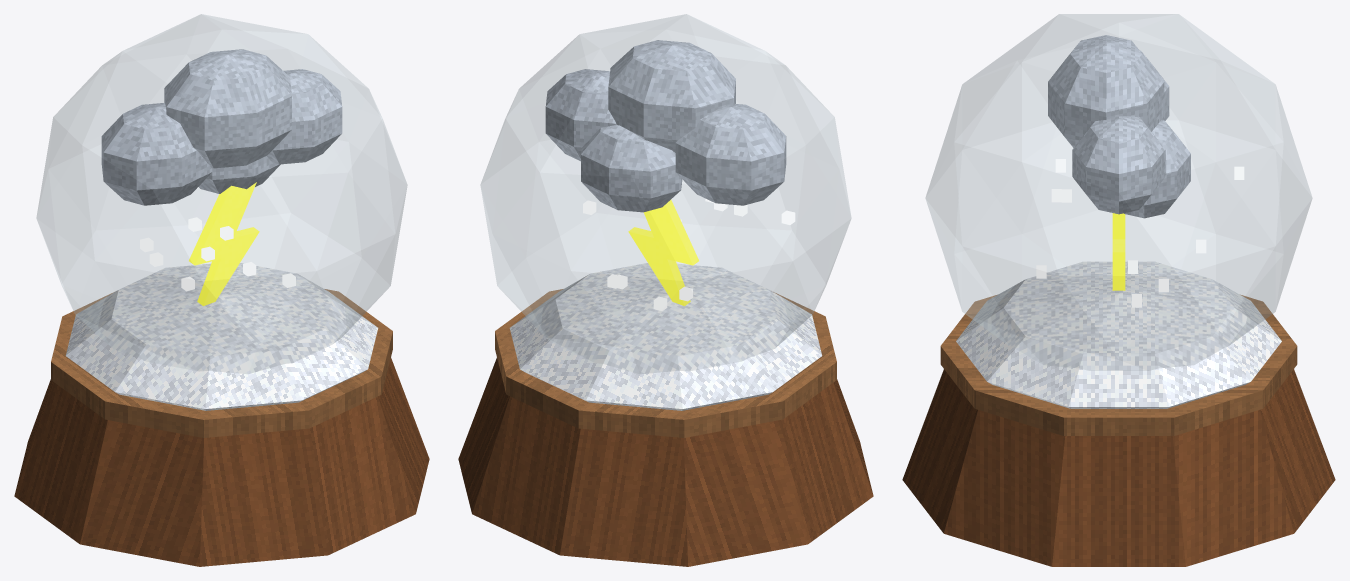
The model's file is 07-storm-globe.glb.
3 renders of one model, left to right at view 1: azimuth 30°, elevation 25°; view 2: azimuth 150°, elevation 25°; view 3: azimuth 270°, elevation 25°, orthographic. The views are drawn at different scales.
Visible parts, largest first — view 1: Globe, Base.001, Snow, Base lip, Cloud 1, Cloud 0, Cloud 2, Lightning, Cloud 3; view 2: Globe, Base.001, Snow, Base lip, Cloud 1, Cloud 0, Cloud 3, Cloud 2, Lightning; view 3: Globe, Base.001, Snow, Base lip, Cloud 1, Cloud 2, Cloud 3, Lightning.
Boxes of the visible parts, left/top/right/bottom form: Globe: left=36, top=14, right=407, bottom=373; Base.001: left=14, top=358, right=429, bottom=566; Snow: left=65, top=263, right=378, bottom=410; Base lip: left=51, top=289, right=392, bottom=437; Cloud 1: left=164, top=49, right=291, bottom=168; Cloud 0: left=101, top=103, right=212, bottom=205; Cloud 2: left=267, top=69, right=342, bottom=164; Lightning: left=189, top=182, right=259, bottom=306; Cloud 3: left=198, top=156, right=280, bottom=193; Globe: left=480, top=14, right=851, bottom=373; Base.001: left=458, top=358, right=873, bottom=566; Snow: left=509, top=263, right=822, bottom=410; Base lip: left=495, top=289, right=836, bottom=437; Cloud 1: left=608, top=40, right=735, bottom=152; Cloud 0: left=675, top=104, right=786, bottom=205; Cloud 3: left=581, top=124, right=682, bottom=212; Cloud 2: left=545, top=69, right=616, bottom=161; Lightning: left=628, top=199, right=698, bottom=306; Globe: left=925, top=14, right=1312, bottom=370; Base.001: left=902, top=369, right=1335, bottom=566; Snow: left=956, top=261, right=1281, bottom=408; Base lip: left=940, top=295, right=1297, bottom=435; Cloud 1: left=1048, top=35, right=1164, bottom=147; Cloud 2: left=1072, top=116, right=1165, bottom=214; Cloud 3: left=1124, top=120, right=1190, bottom=218; Lightning: left=1112, top=213, right=1125, bottom=290.
Bounding box in the file's own units: 0.1617 × 0.198 × 0.17.
7 materials, 6 textured.
